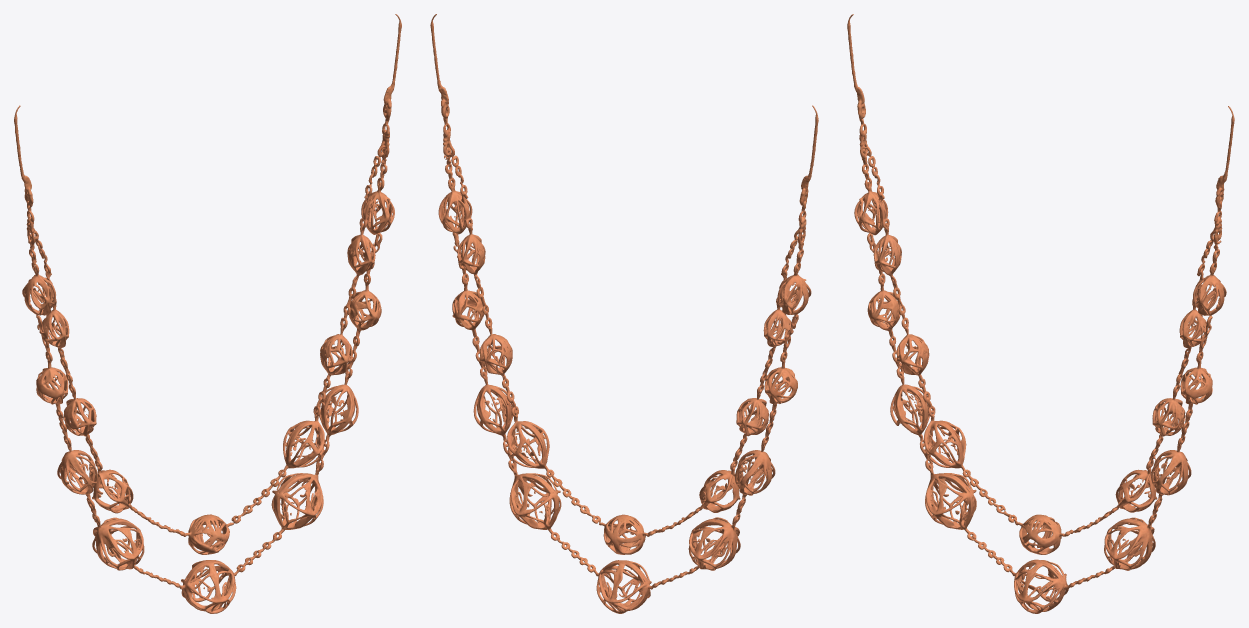
The model's file is 1773664293886-sample_2026-03-16T130015.931.glb.
3 renders of one model, left to right at view 1: azimuth 30°, elevation 25°; view 2: azimuth 150°, elevation 25°; view 3: azimuth 330°, elevation 25°, orthographic.
Visible parts, largest first — view 1: world; view 2: world; view 3: world.
Part boxes in pixels (x1,y1,x2,y2): world: (14,14,401,613); world: (430,14,818,613); world: (847,14,1234,613).
Bounding box in the file's own units: 0.7387 × 1 × 0.1054.
1 material, 1 textured.
